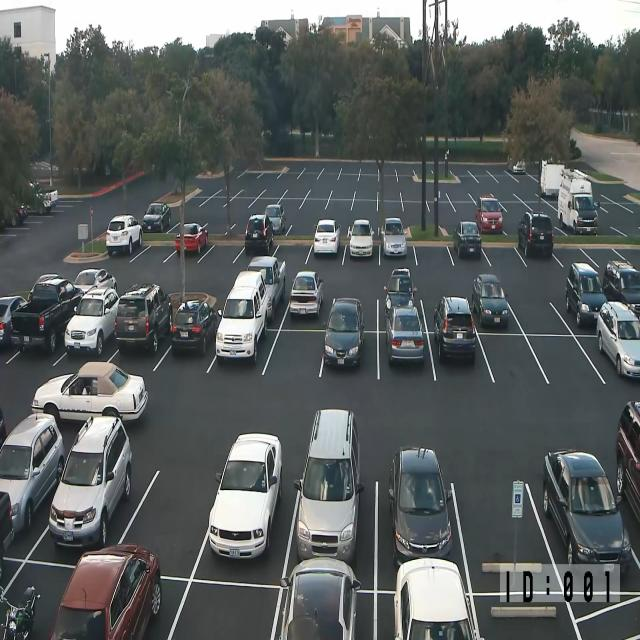car: (48, 414, 132, 548), (293, 407, 364, 564), (542, 448, 632, 569), (50, 543, 162, 639), (208, 432, 282, 560), (0, 411, 65, 535), (388, 445, 452, 566), (31, 360, 148, 426), (270, 556, 361, 639), (394, 556, 483, 640), (10, 273, 84, 354), (215, 270, 270, 362), (114, 282, 172, 353), (64, 286, 119, 355), (596, 301, 640, 378), (615, 398, 640, 522), (323, 296, 365, 368), (433, 295, 476, 363), (565, 261, 607, 327), (170, 298, 217, 356), (246, 256, 286, 322), (558, 174, 598, 235), (384, 304, 424, 364), (602, 259, 640, 318), (0, 584, 40, 639), (472, 274, 509, 328), (518, 210, 554, 258), (289, 270, 323, 318), (383, 267, 417, 314), (106, 214, 142, 255), (0, 295, 27, 347), (0, 490, 15, 576), (73, 268, 118, 296), (244, 213, 273, 253), (454, 220, 482, 258), (175, 222, 208, 254), (348, 218, 374, 258), (313, 218, 341, 255), (381, 216, 406, 257), (476, 195, 502, 234), (142, 202, 171, 232), (264, 203, 286, 235), (11, 203, 28, 226), (0, 408, 7, 452), (512, 160, 526, 173), (573, 168, 588, 180)
